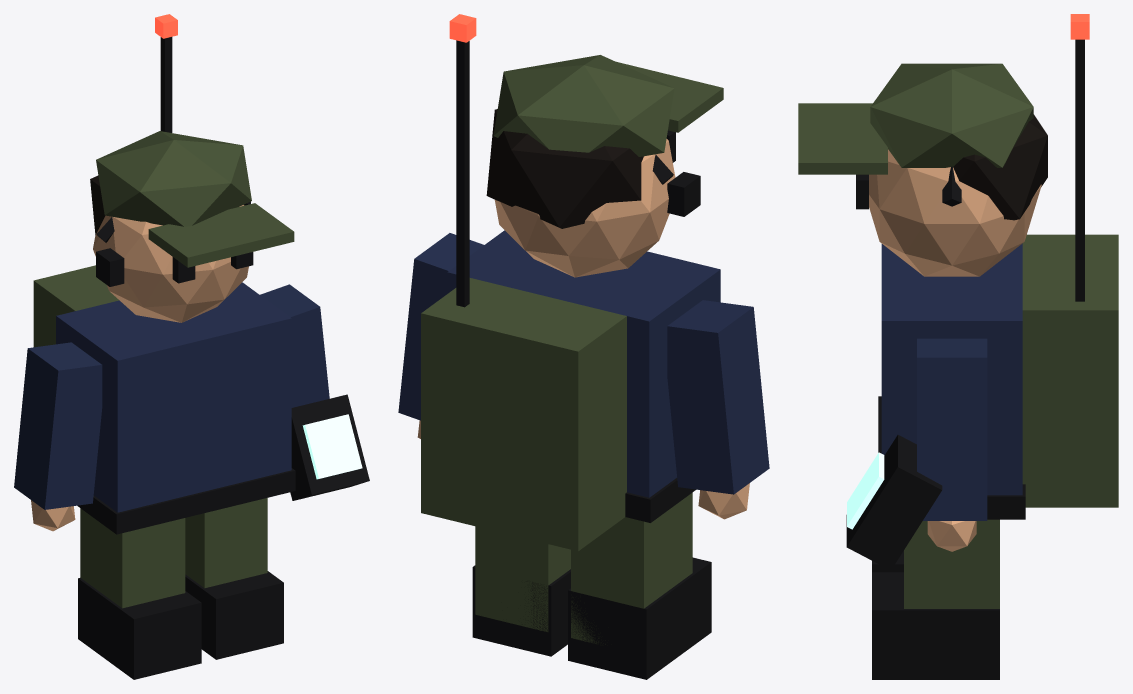
The model's file is DEA Rastreador.fbx.
3 views of the same model, side by side, from view 1: azimuth 30°, elevation 25°; view 2: azimuth 150°, elevation 25°; view 3: azimuth 270°, elevation 25° (orthographic). The views are drawn at different scales.
Parts seen in each view (by area): view 1: DEA Rastreador; view 2: DEA Rastreador; view 3: DEA Rastreador.
Boxes of the visible parts, x1,y1,x2,y2 form: DEA Rastreador: (14, 14, 369, 679); DEA Rastreador: (398, 14, 769, 679); DEA Rastreador: (798, 14, 1118, 679).
Bounding box in the file's own units: 0.6088 × 1.12 × 0.5.
